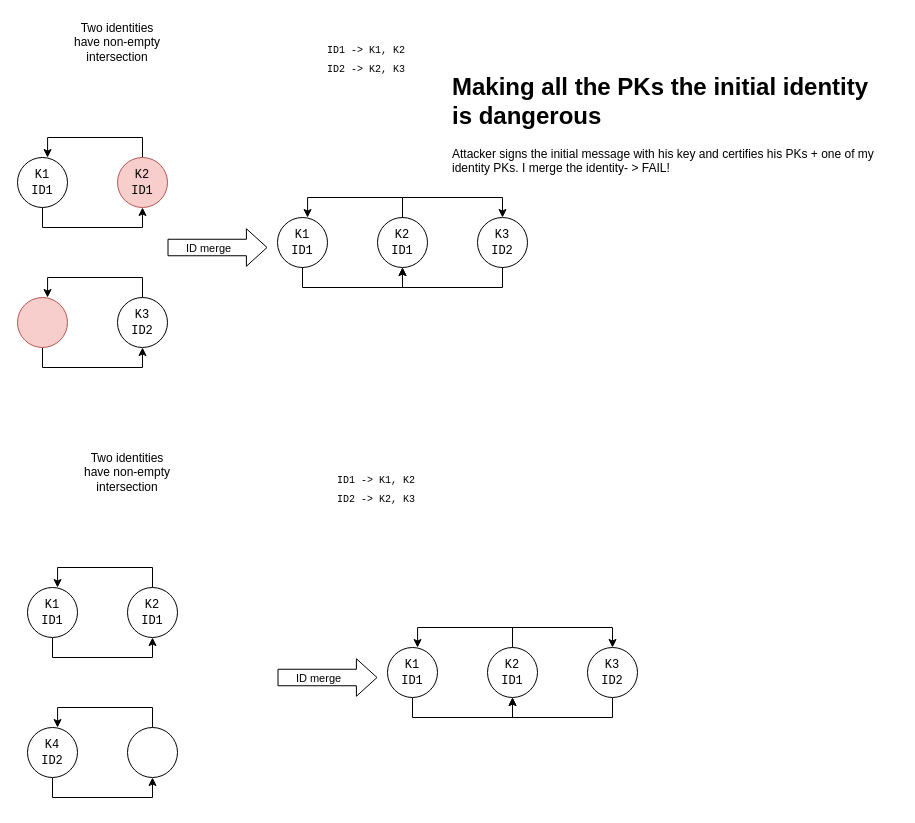
Image size: 915x823. Some labels were removed from this diagram. The shapes that lost their labels are listed below. From the top down, each one's centre as x and y in pixels, then its label:
At pixel 42 322: "K2 ID2".
At pixel 152 752: "K5 ID2".
